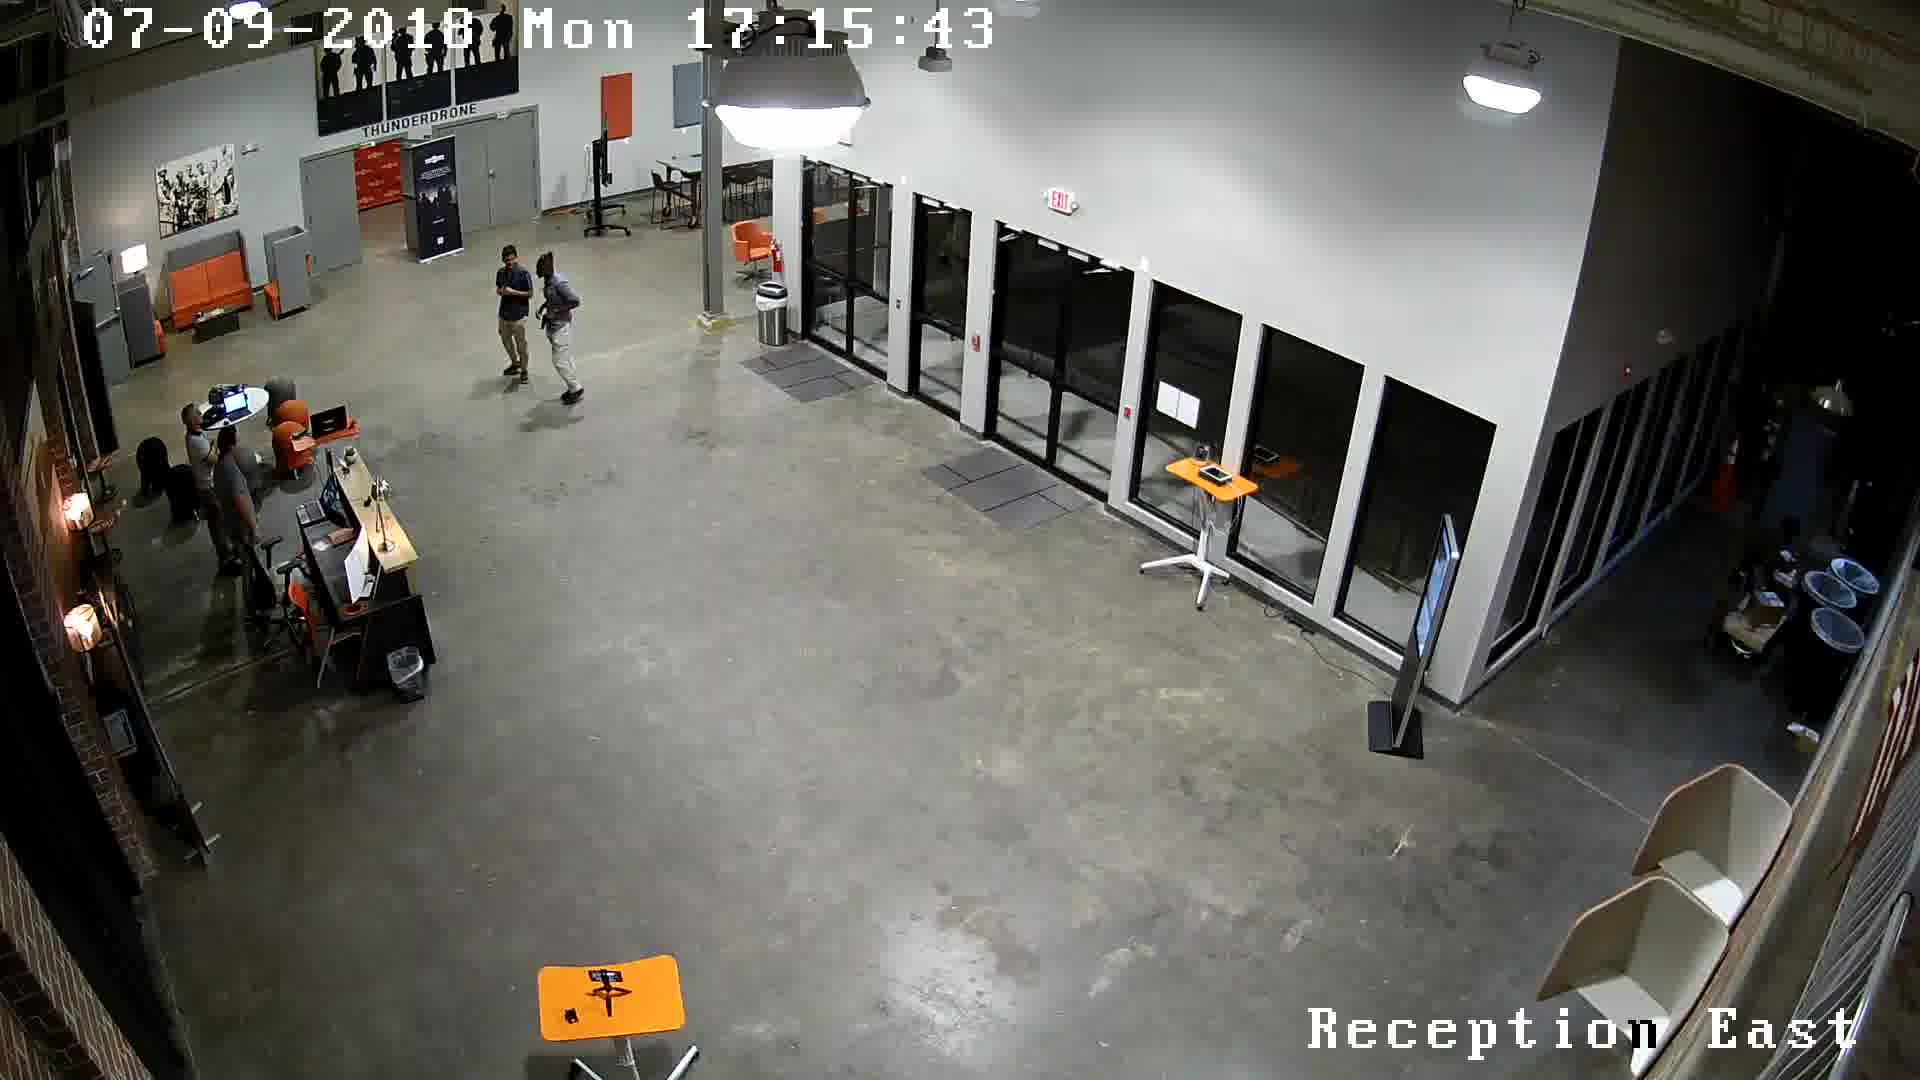pistol: (533, 314, 566, 340)
